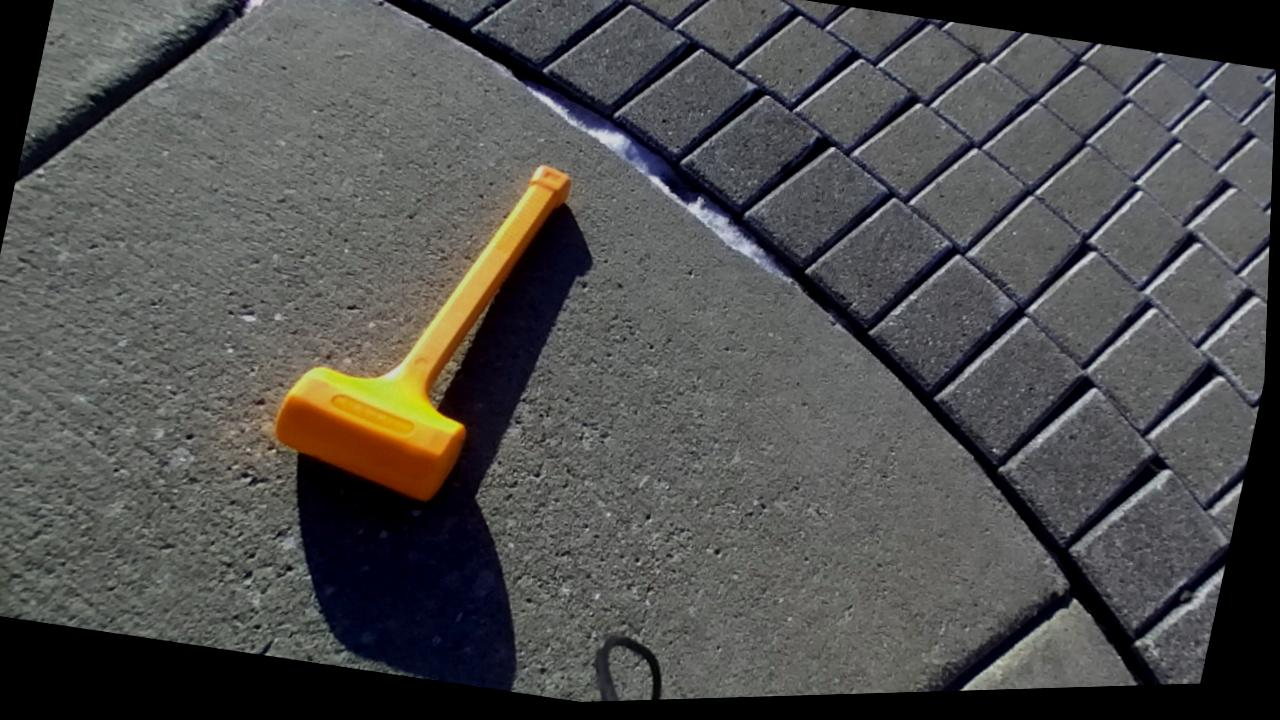mallet: (274, 165, 570, 498)
